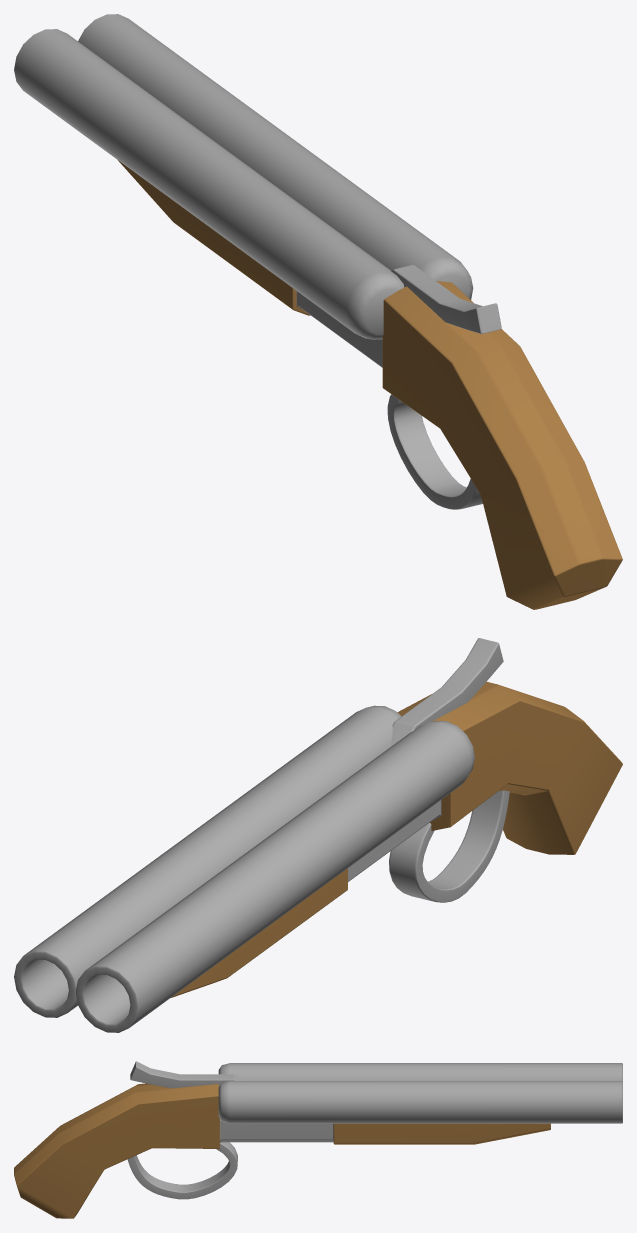
File: shotgun.fbx
3 views of the same model, one above another, from view 1: azimuth 30°, elevation 25°; view 2: azimuth 150°, elevation 25°; view 3: azimuth 270°, elevation 25° (orthographic). The views are drawn at different scales.
Visible parts, largest first — view 1: shotgun; view 2: shotgun; view 3: shotgun.
Boxes of the visible parts, bbox=[...] form: shotgun: bbox=[14, 14, 622, 609]; shotgun: bbox=[14, 638, 622, 1032]; shotgun: bbox=[14, 1061, 622, 1218].
Bounding box in the file's own units: 85.04 × 164 × 612.
